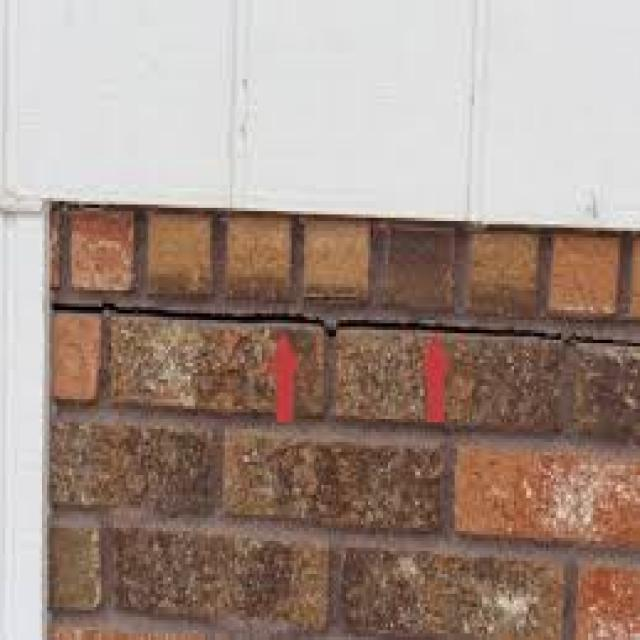Crack: (50, 294, 638, 346)
